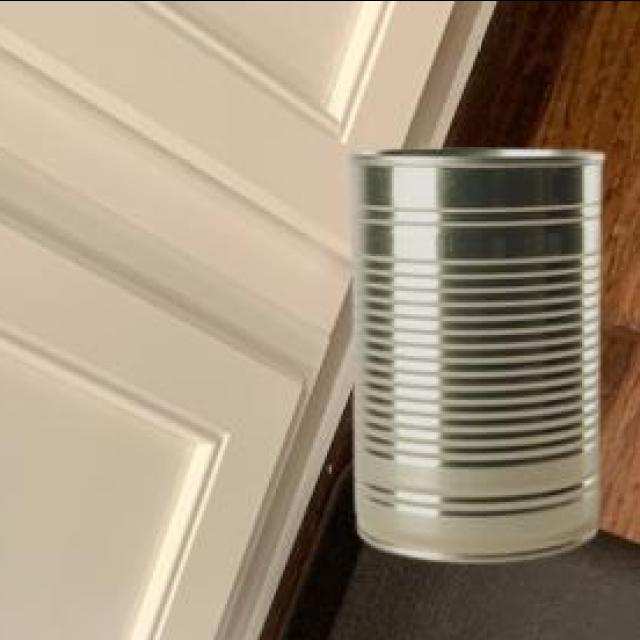logam: (347, 152, 599, 565)
